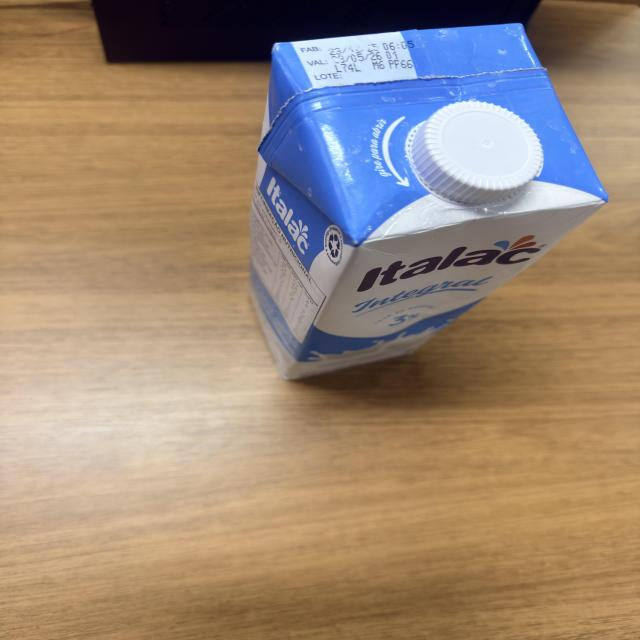Caixa de Leite: (246, 24, 607, 377)
